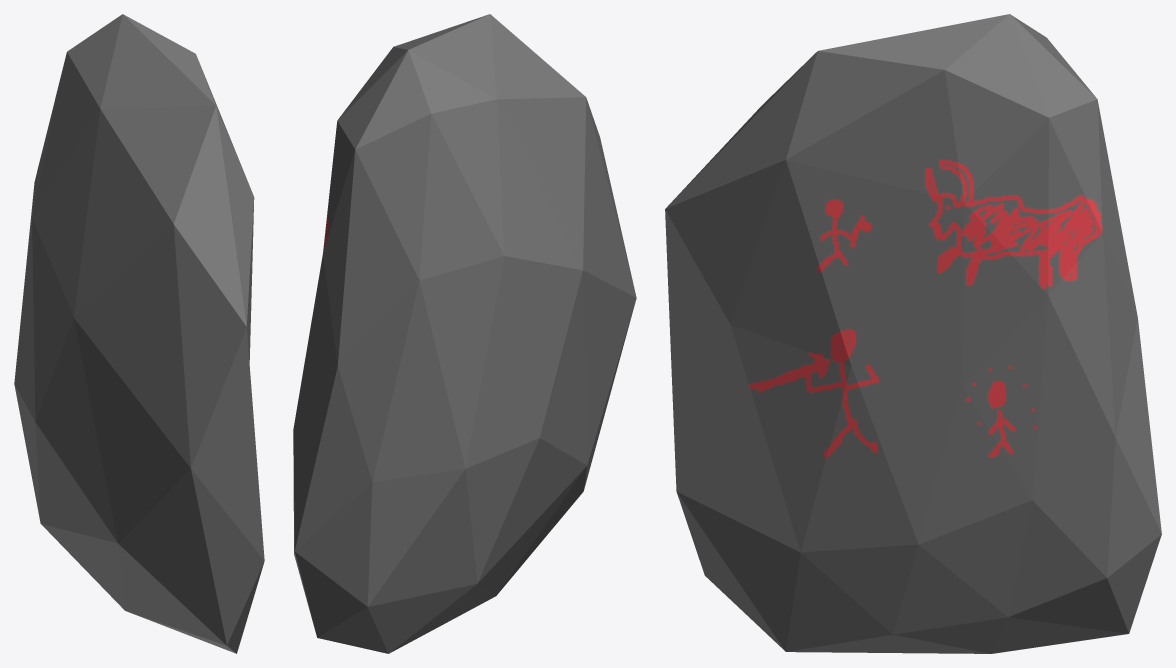
File: museum-rock.fbx
3 views of the same model, side by side, from view 1: azimuth 30°, elevation 25°; view 2: azimuth 150°, elevation 25°; view 3: azimuth 270°, elevation 25° (orthographic). The views are drawn at different scales.
Visible parts, largest first — view 1: Icosphere.017; view 2: Icosphere.017; view 3: Icosphere.017.
Boxes of the visible parts, left/top/right/bottom form: Icosphere.017: left=14, top=14, right=264, bottom=653; Icosphere.017: left=293, top=14, right=636, bottom=653; Icosphere.017: left=665, top=14, right=1161, bottom=653.
Size of the model in its own units: 508 by 1545 by 1101.
